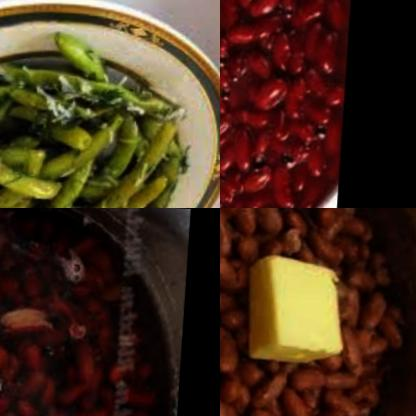fasol: (0, 27, 209, 208), (0, 236, 183, 416), (220, 0, 357, 208), (220, 341, 414, 416), (252, 208, 414, 276), (340, 259, 416, 373)
